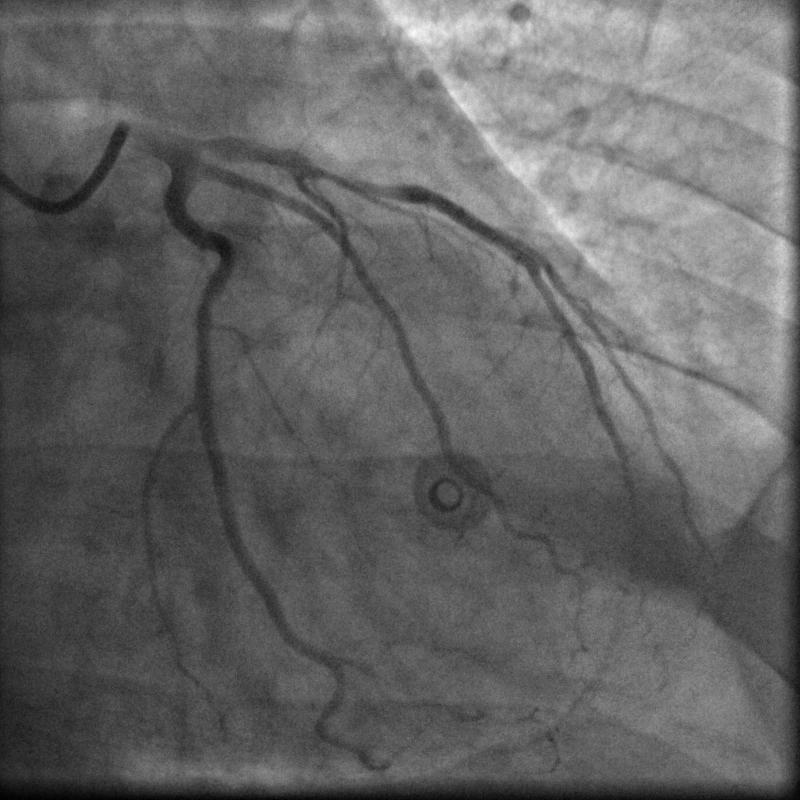Stenosis: (322, 165, 403, 202)
